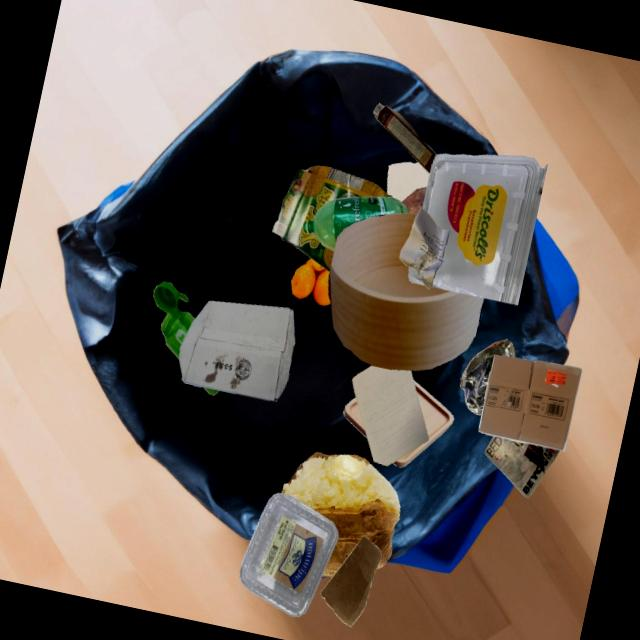biowaste: (280, 451, 399, 576), (291, 258, 330, 305), (401, 187, 426, 213)
cardboard: (272, 165, 392, 271), (178, 300, 294, 401), (478, 354, 581, 451), (320, 536, 381, 627), (373, 103, 436, 173)
combustible waste: (328, 213, 483, 370), (392, 379, 453, 467), (343, 397, 367, 439)
metal: (460, 339, 515, 415)
paper: (352, 365, 428, 466), (484, 436, 559, 499), (398, 207, 449, 289), (386, 162, 429, 202)
plastic: (422, 153, 547, 305), (239, 493, 338, 616), (302, 196, 408, 251), (153, 281, 194, 359)
